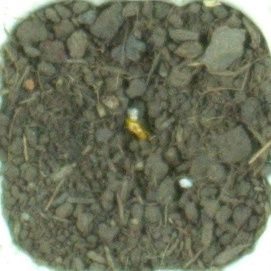chilli seed: (122, 107, 156, 144)
